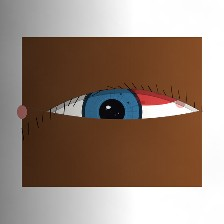hemorrhage_spot: (98, 57, 195, 134)
